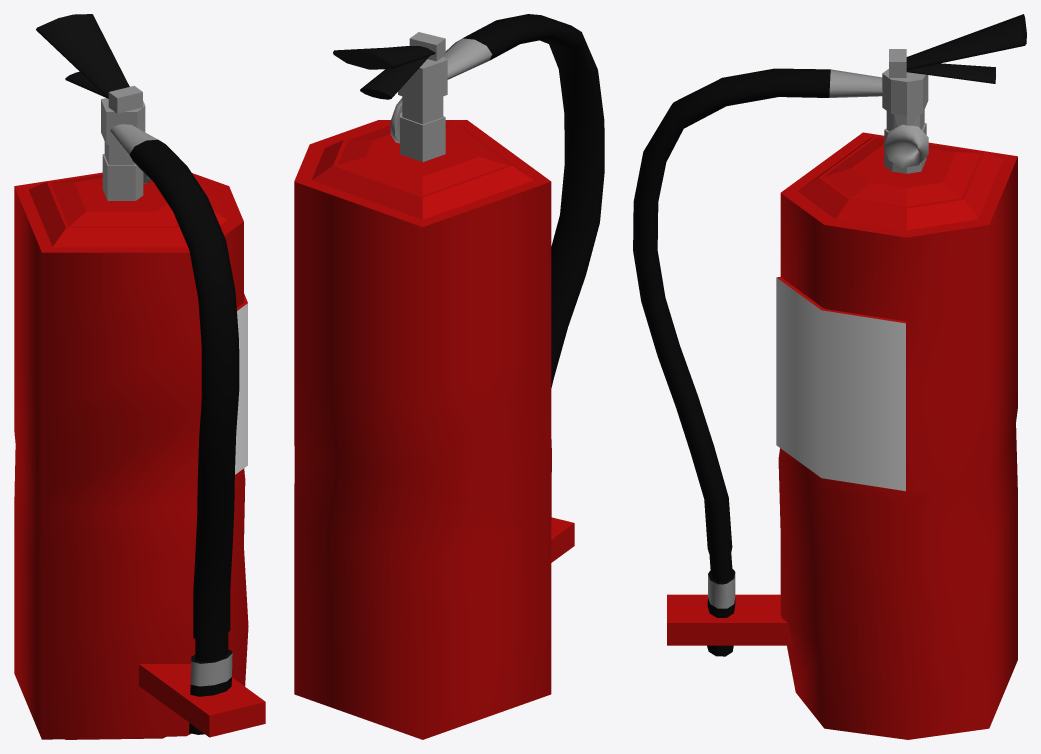
The model's file is mod_laboratory_fire_extinguisher.FBX.
3 renders of one model, left to right at view 1: azimuth 30°, elevation 25°; view 2: azimuth 150°, elevation 25°; view 3: azimuth 270°, elevation 25°, orthographic. The views are drawn at different scales.
Visible parts, largest first — view 1: mod_laboratory_fire_extinguisher; view 2: mod_laboratory_fire_extinguisher; view 3: mod_laboratory_fire_extinguisher.
Part boxes in pixels (x1,y1,x2,y2): mod_laboratory_fire_extinguisher: (14, 14, 265, 739); mod_laboratory_fire_extinguisher: (294, 14, 604, 739); mod_laboratory_fire_extinguisher: (633, 14, 1026, 739).
Size of the model in its own units: 4.56 by 13.57 by 7.09.
